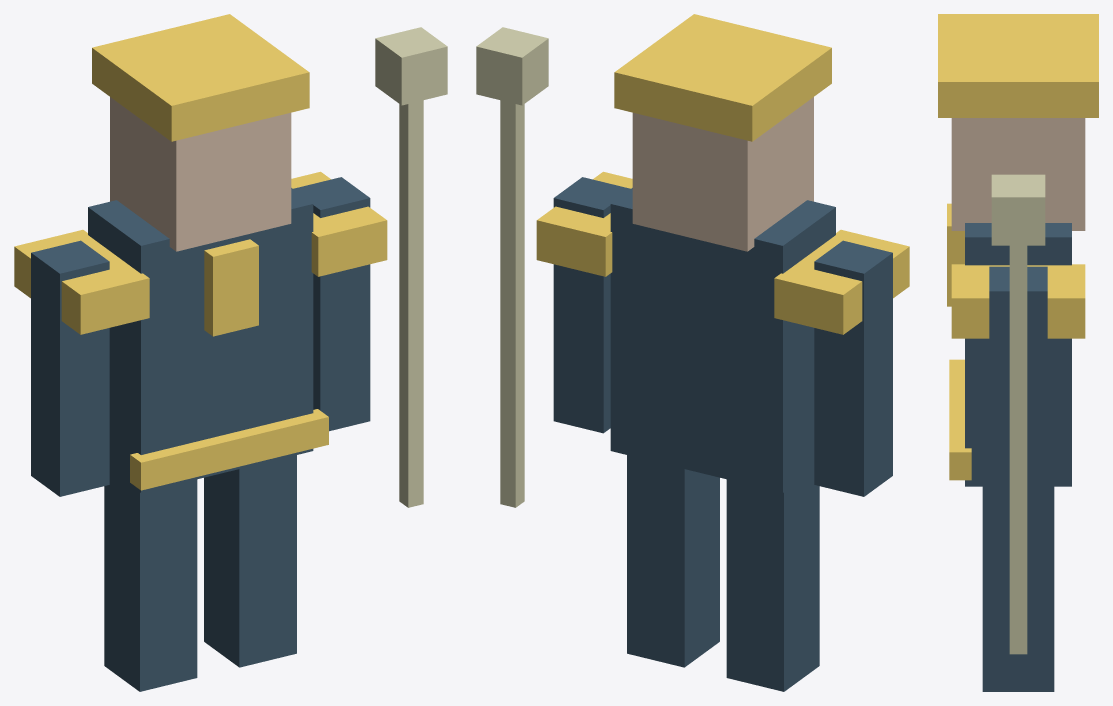
Rendered from 19_zerin_rootborne_navigator_under_adaptive.glb.
The picture shows the model from 3 angles, left to right: view 1: azimuth 30°, elevation 25°; view 2: azimuth 150°, elevation 25°; view 3: azimuth 270°, elevation 25°; orthographic projection.
Visible parts, largest first — view 1: Zerin Rootborne, Navigator under Adaptive; view 2: Zerin Rootborne, Navigator under Adaptive; view 3: Zerin Rootborne, Navigator under Adaptive.
Part boxes in pixels (box(x1,y1,x2,y2)): Zerin Rootborne, Navigator under Adaptive: box(14, 14, 447, 691); Zerin Rootborne, Navigator under Adaptive: box(476, 14, 909, 691); Zerin Rootborne, Navigator under Adaptive: box(938, 14, 1098, 691).
Size of the model in its own units: 1.05 by 1.54 by 0.3711.
